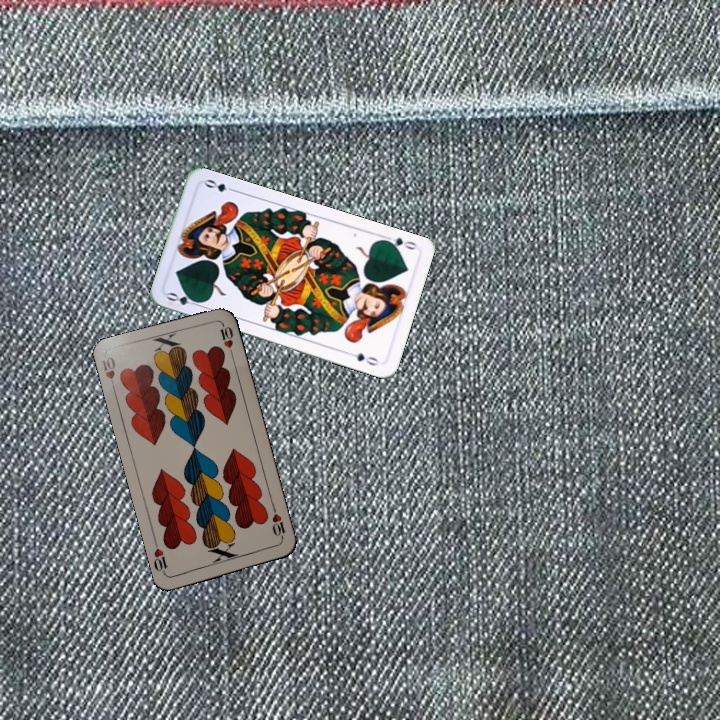GO: (163, 288, 204, 309), (379, 232, 419, 253)
H10: (268, 503, 288, 543), (98, 353, 118, 393)
